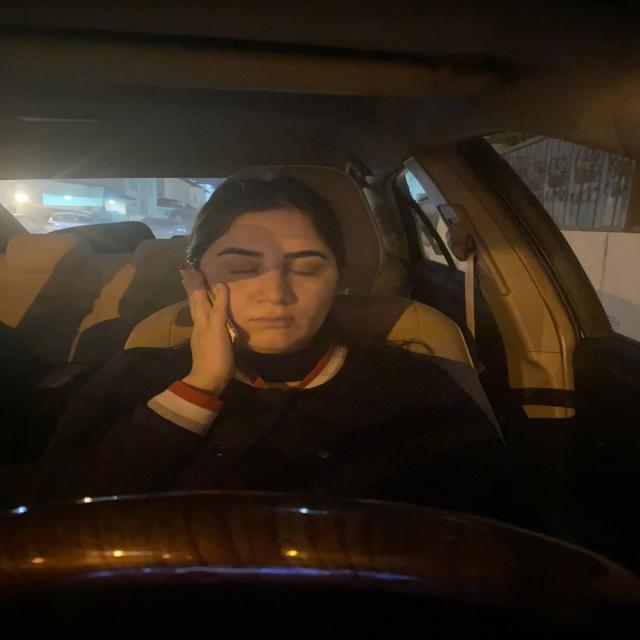person: (197, 192, 341, 356)
